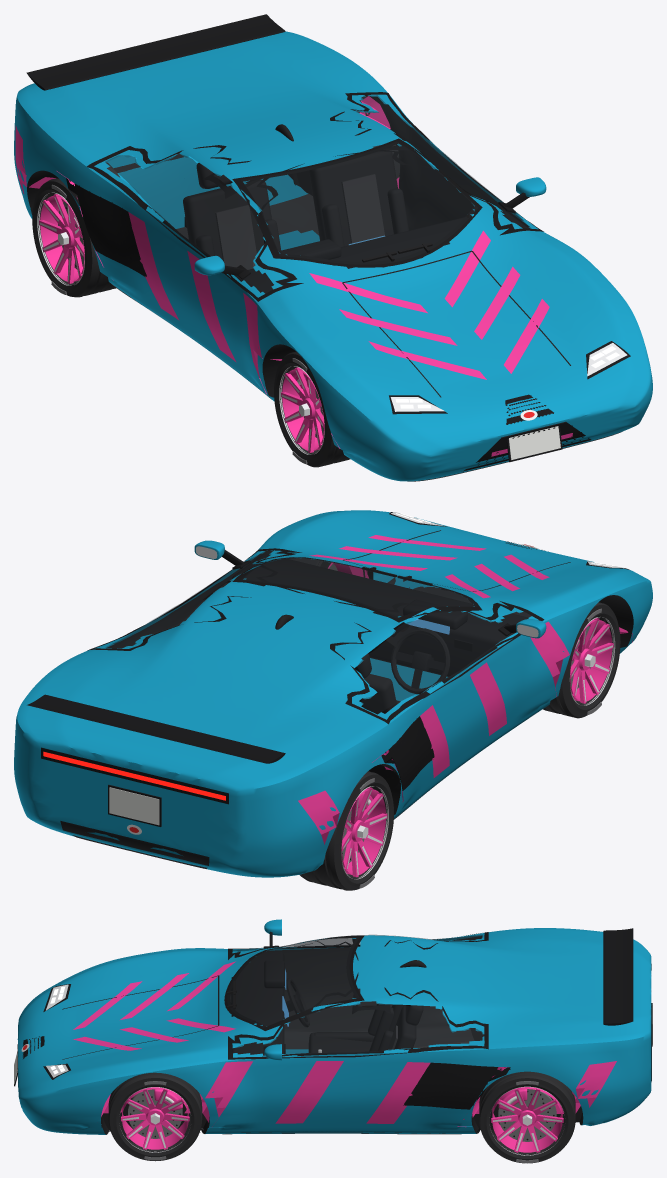
The model's file is neon.glb.
3 renders of one model, top to bottom at view 1: azimuth 30°, elevation 25°; view 2: azimuth 150°, elevation 25°; view 3: azimuth 270°, elevation 25°, orthographic. The views are drawn at different scales.
Parts seen in each view (by area): view 1: Body, Wheel_RR, Wheel_FR; view 2: Body, Wheel_RR, Wheel_FR; view 3: Body, Wheel_RL, Wheel_FL.
Boxes of the visible parts, left/top/right/bottom form: Body: left=14, top=14, right=652, bottom=481; Wheel_RR: left=32, top=178, right=116, bottom=297; Wheel_FR: left=274, top=351, right=350, bottom=467; Body: left=14, top=510, right=652, bottom=877; Wheel_RR: left=299, top=771, right=393, bottom=890; Wheel_FR: left=543, top=602, right=620, bottom=718; Body: left=14, top=919, right=652, bottom=1134; Wheel_RL: left=479, top=1071, right=575, bottom=1163; Wheel_FL: left=108, top=1072, right=202, bottom=1161.
Bounding box in the file's own units: 2.31 × 1.17 × 4.64.
